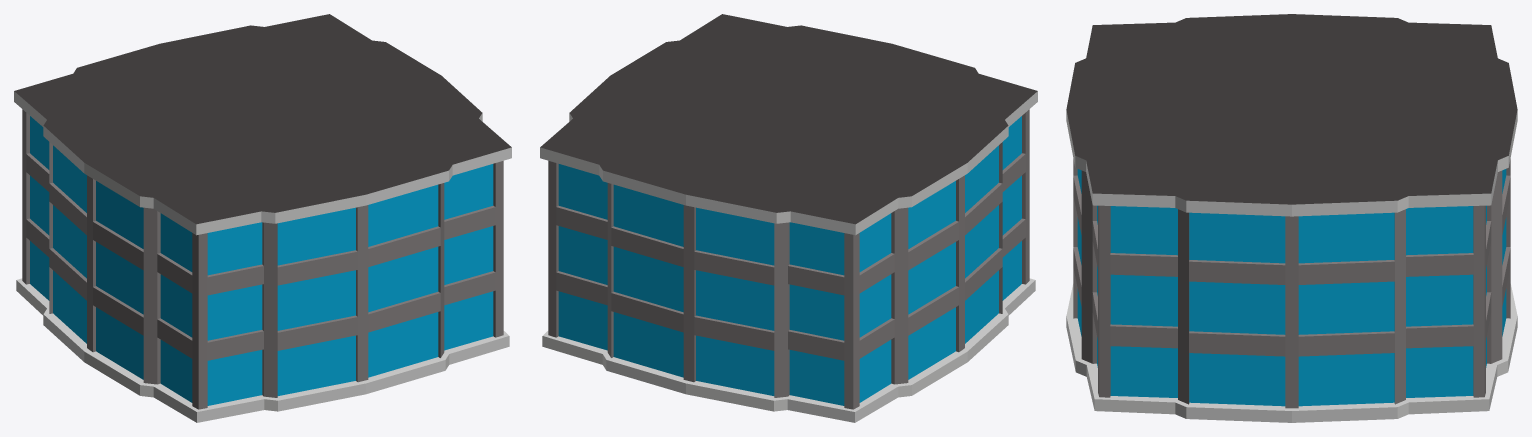
The model's file is Building_10.fbx.
The picture shows the model from 3 angles, left to right: view 1: azimuth 30°, elevation 25°; view 2: azimuth 150°, elevation 25°; view 3: azimuth 270°, elevation 25°; orthographic projection. The views are drawn at different scales.
Visible parts, largest first — view 1: skyscraper2-part-middle; view 2: skyscraper2-part-middle; view 3: skyscraper2-part-middle.
Part boxes in pixels (box(x1,y1,x2,y2)): skyscraper2-part-middle: box(14, 14, 511, 422); skyscraper2-part-middle: box(540, 14, 1037, 422); skyscraper2-part-middle: box(1066, 14, 1517, 422).
Bounding box in the file's own units: 3.15 × 1.68 × 3.15.
